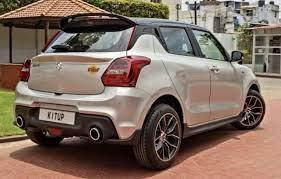Hatchback: (9, 15, 265, 169)
